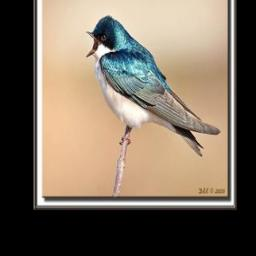Swallow: (83, 13, 222, 159)
